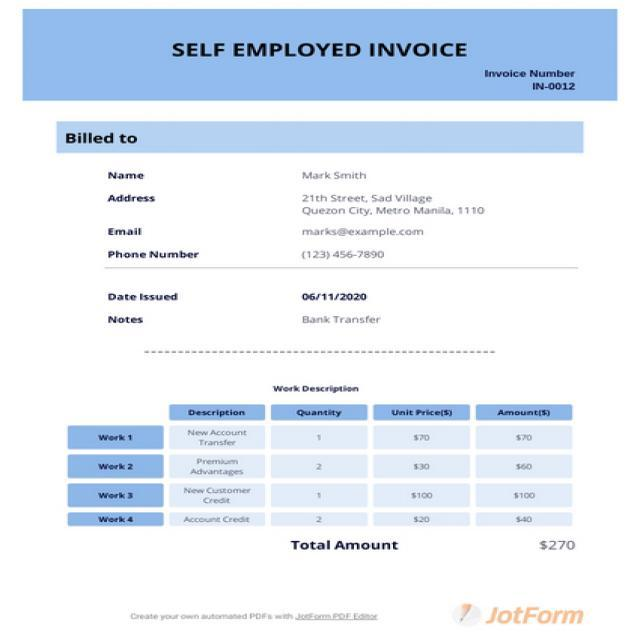customer_address: (300, 189, 491, 222)
customer_name: (299, 169, 372, 183)
invoice_date: (299, 289, 372, 303)
invoice_number: (528, 78, 582, 95)
invoice_total: (535, 538, 579, 556)
item_description: (181, 423, 258, 528)
item_quantity: (308, 428, 332, 527)
item_total_price: (511, 429, 538, 525)
item_unit_price: (408, 428, 441, 524)
